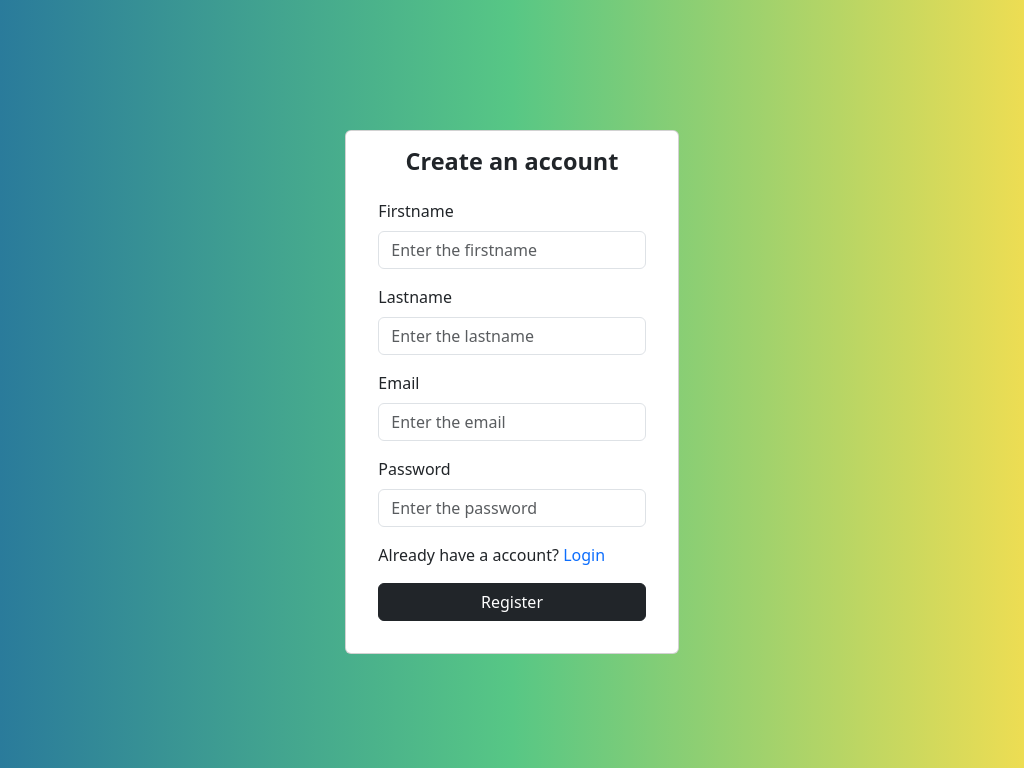
Test: Register Component › should show multiple validation errors at once
Step 1. Type "invalid" into the field labelled "Email" → point(512, 422), box 378,403 -> 646,441
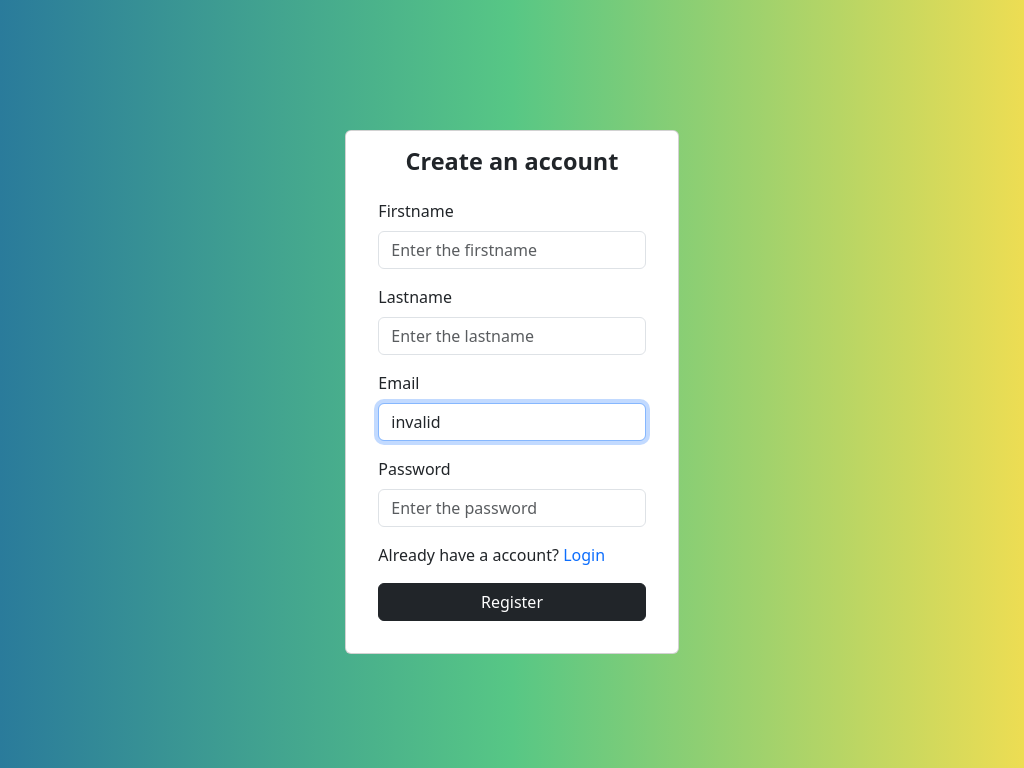
Step 2. Type "123" into the password field labelled "Password" → point(512, 508), box 378,489 -> 646,527
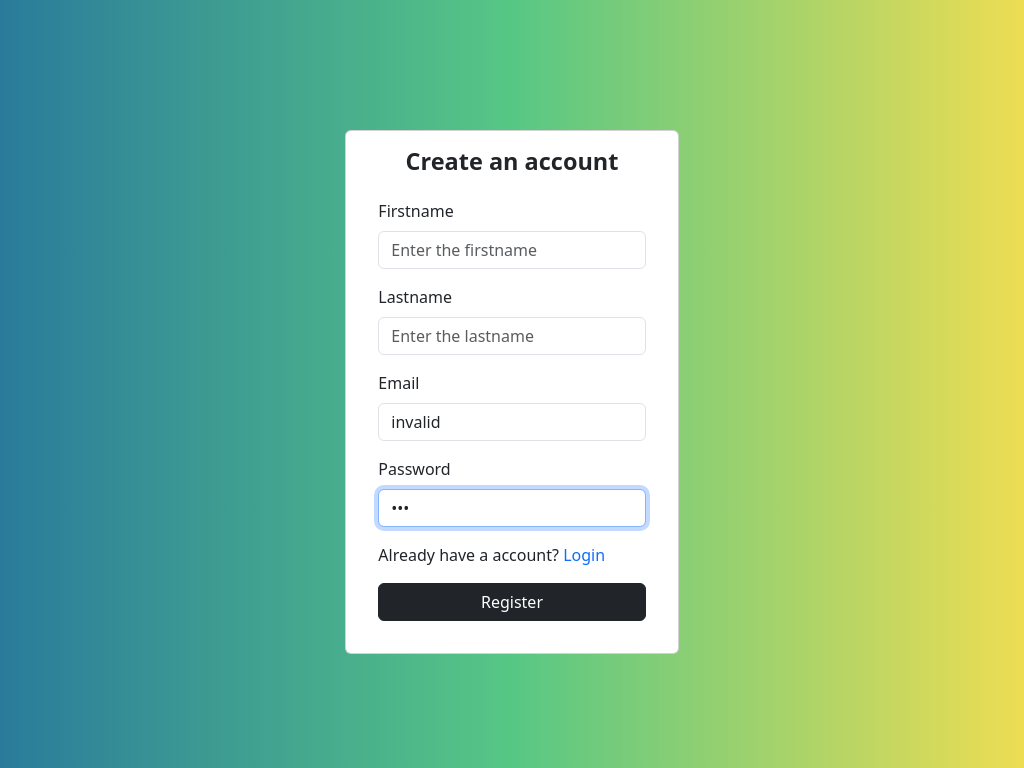
Step 3. Click the button "Register" → point(512, 602), box 378,583 -> 646,621
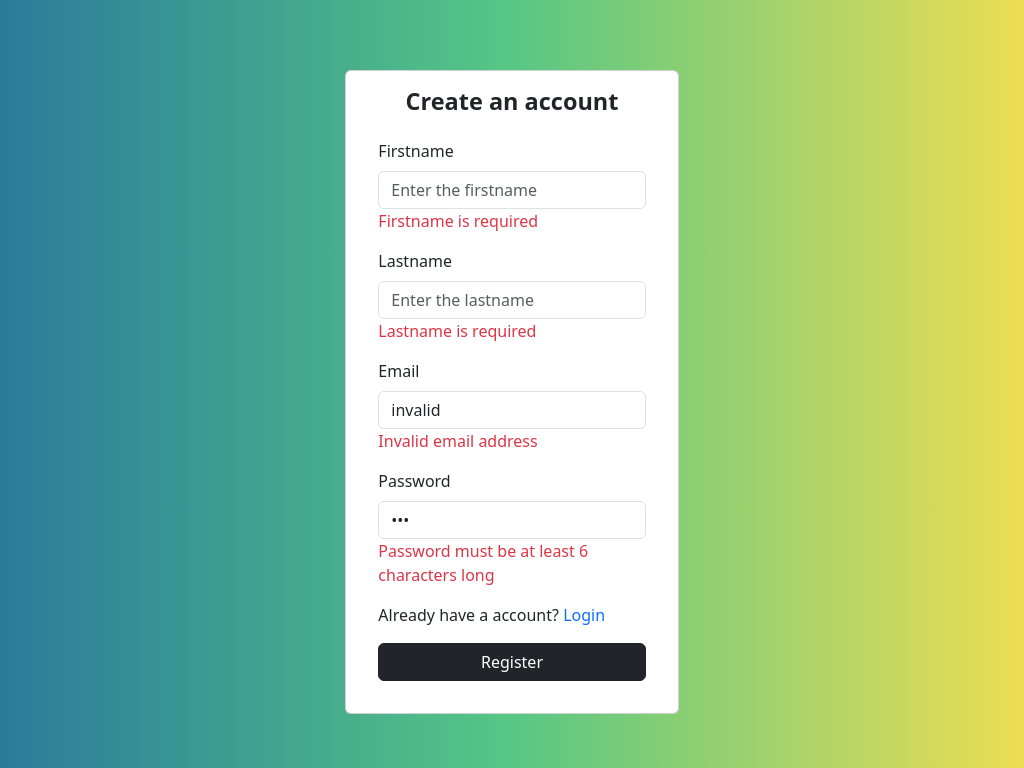
Expected: the text "Firstname is required" is shown, 378,210 -> 538,232
Expected: the text "Lastname is required" is shown, 378,320 -> 536,342
Expected: the text "Invalid email address" is shown, 378,430 -> 538,452
